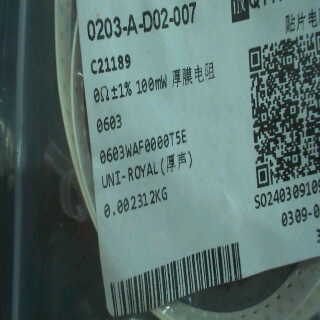0R: (92, 71, 168, 146)
